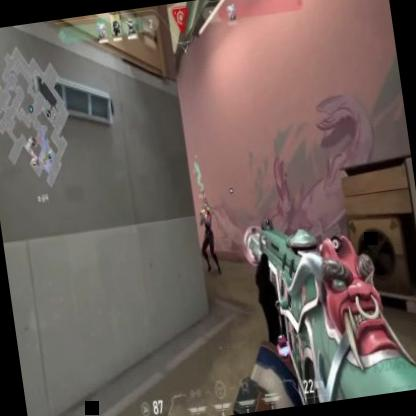enemy: (195, 200, 221, 276)
enemy_head: (201, 201, 209, 217)
